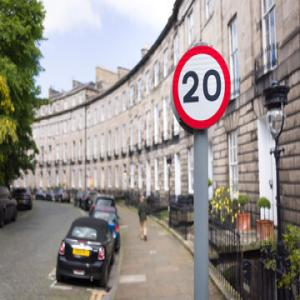speed limit 20: (175, 43, 231, 132)
